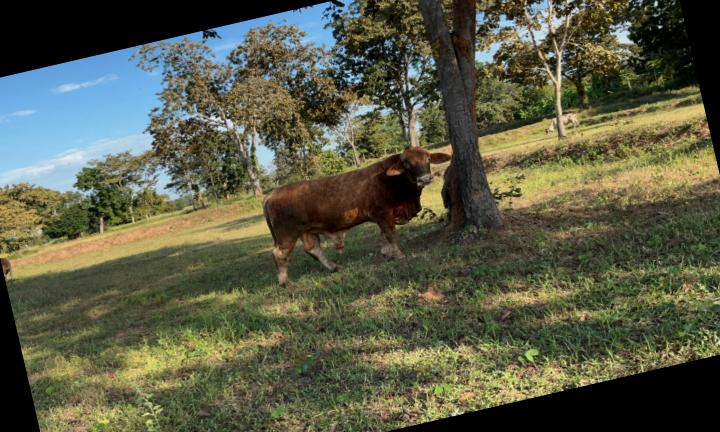Charolais: (263, 147, 450, 286)
